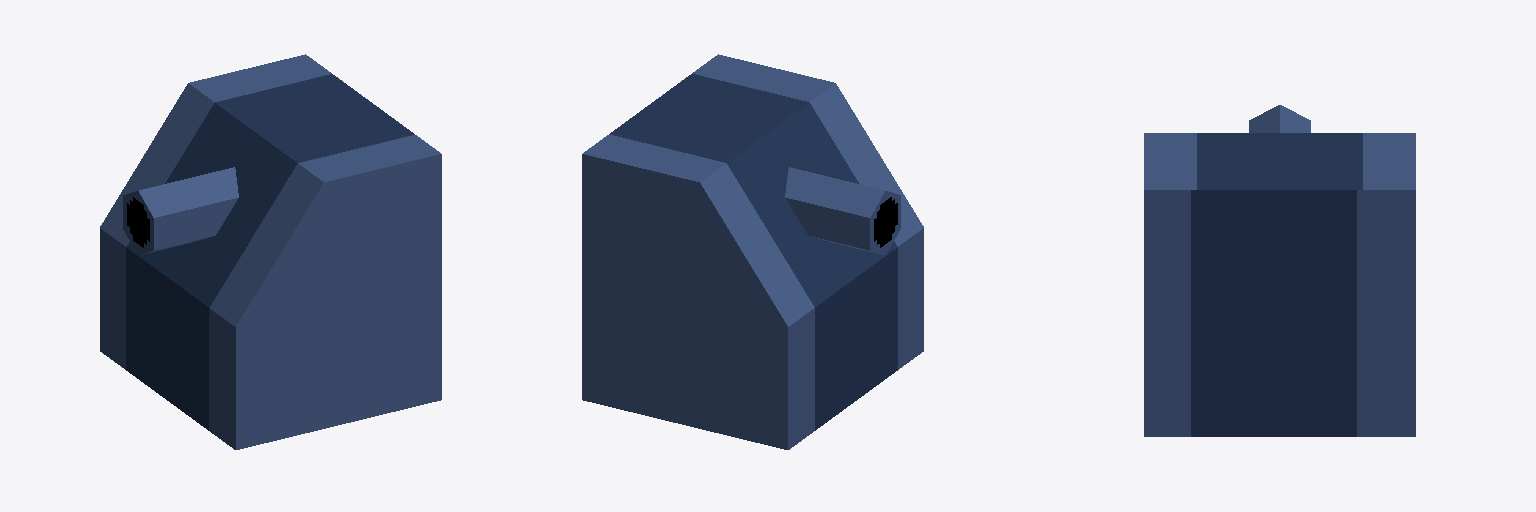
The picture shows the model from 3 angles: view 1: azimuth 30°, elevation 25°; view 2: azimuth 150°, elevation 25°; view 3: azimuth 270°, elevation 25°; orthographic projection.
Parts seen in each view (by area): view 1: Cube; view 2: Cube; view 3: Cube.
Boxes of the visible parts, box(x1,y1,x2,y2) form: Cube: box(100, 54, 441, 449); Cube: box(582, 54, 923, 449); Cube: box(1144, 105, 1415, 436).
Size of the model in its own units: 2 by 2 by 2.
1 materials, 1 textured.